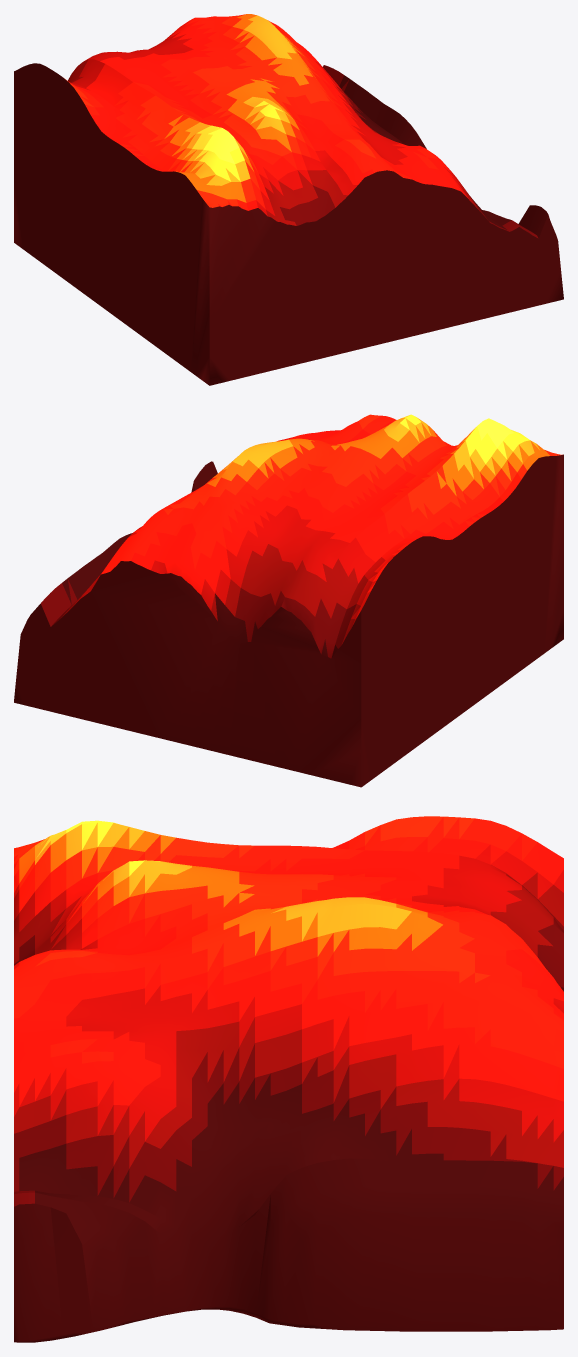
File: core_fire_82.glb
3 views of the same model, one above another, from view 1: azimuth 30°, elevation 25°; view 2: azimuth 150°, elevation 25°; view 3: azimuth 270°, elevation 25° (orthographic). The views are drawn at different scales.
Parts seen in each view (by area): view 1: core_fire_82_fire; view 2: core_fire_82_fire; view 3: core_fire_82_fire.
Part boxes in pixels (x1=…): core_fire_82_fire: x1=14, y1=14, x2=563, y2=385; core_fire_82_fire: x1=14, y1=414, x2=563, y2=787; core_fire_82_fire: x1=14, y1=816, x2=563, y2=1342.
Size of the model in its own units: 22 by 13.55 by 21.
